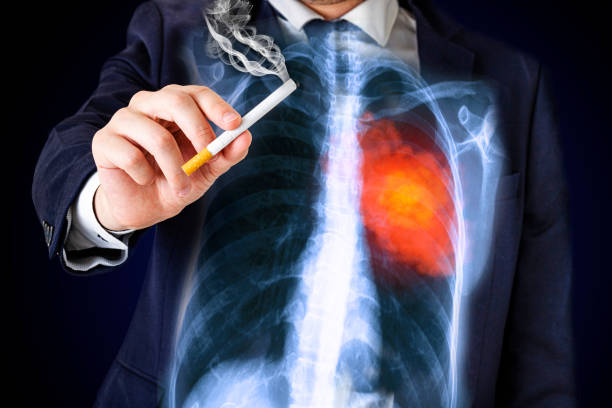cigarette: (180, 76, 301, 178)
